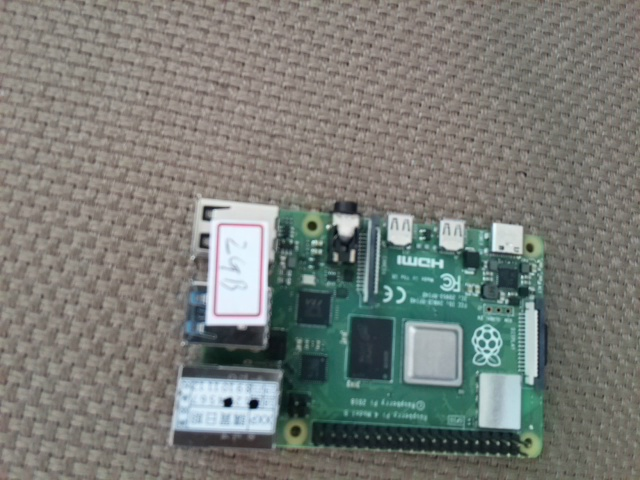Pi4: (158, 193, 557, 466)
